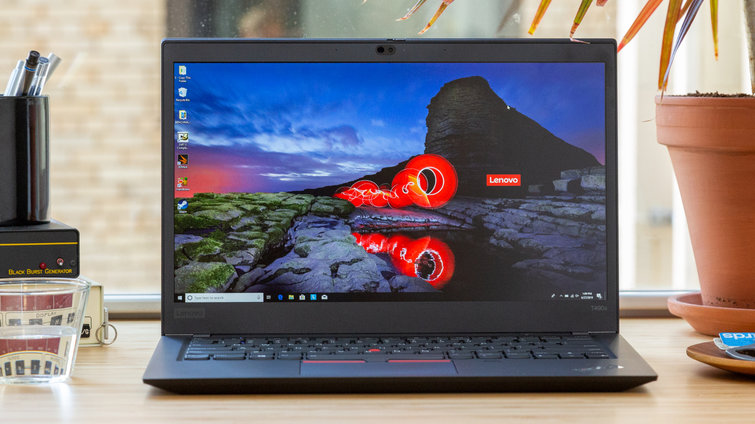Laptop: (137, 26, 663, 413)
